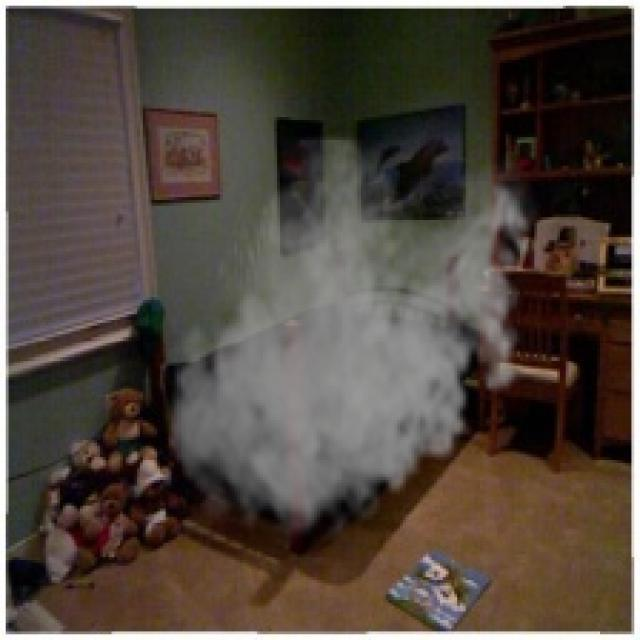Smoke: (160, 134, 543, 549)
